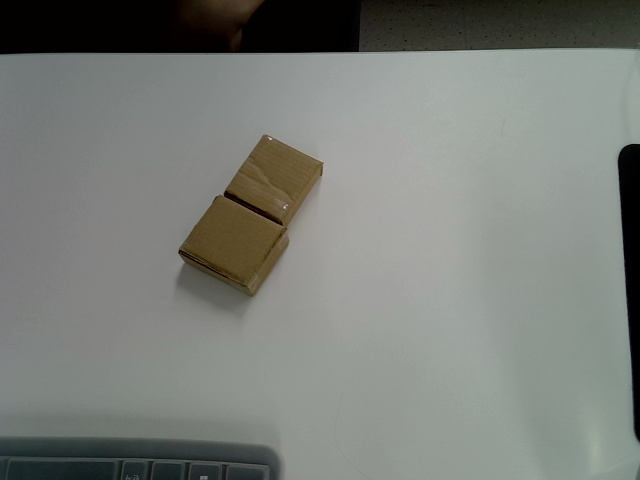normal: (179, 195, 288, 297), (224, 135, 324, 229)
